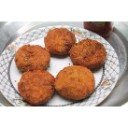cutlet: (56, 66, 94, 100), (15, 72, 54, 101), (71, 40, 105, 67), (15, 42, 49, 69), (45, 27, 74, 52)
